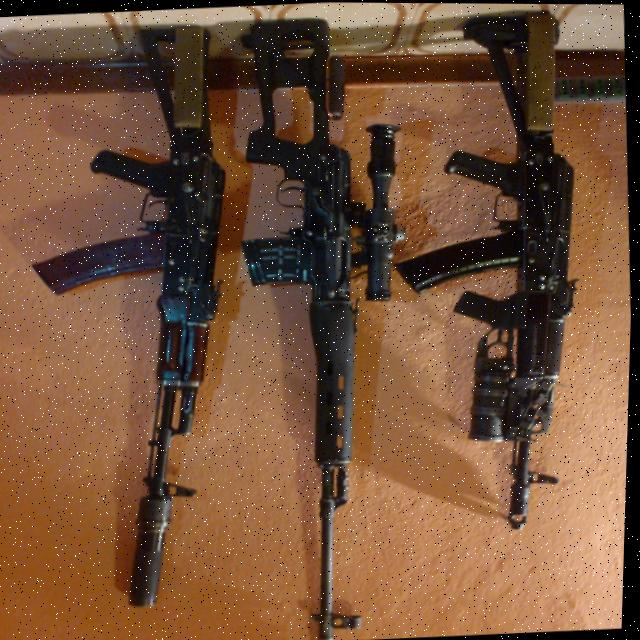firearm: (10, 24, 255, 615), (215, 12, 429, 640), (376, 7, 600, 536)
